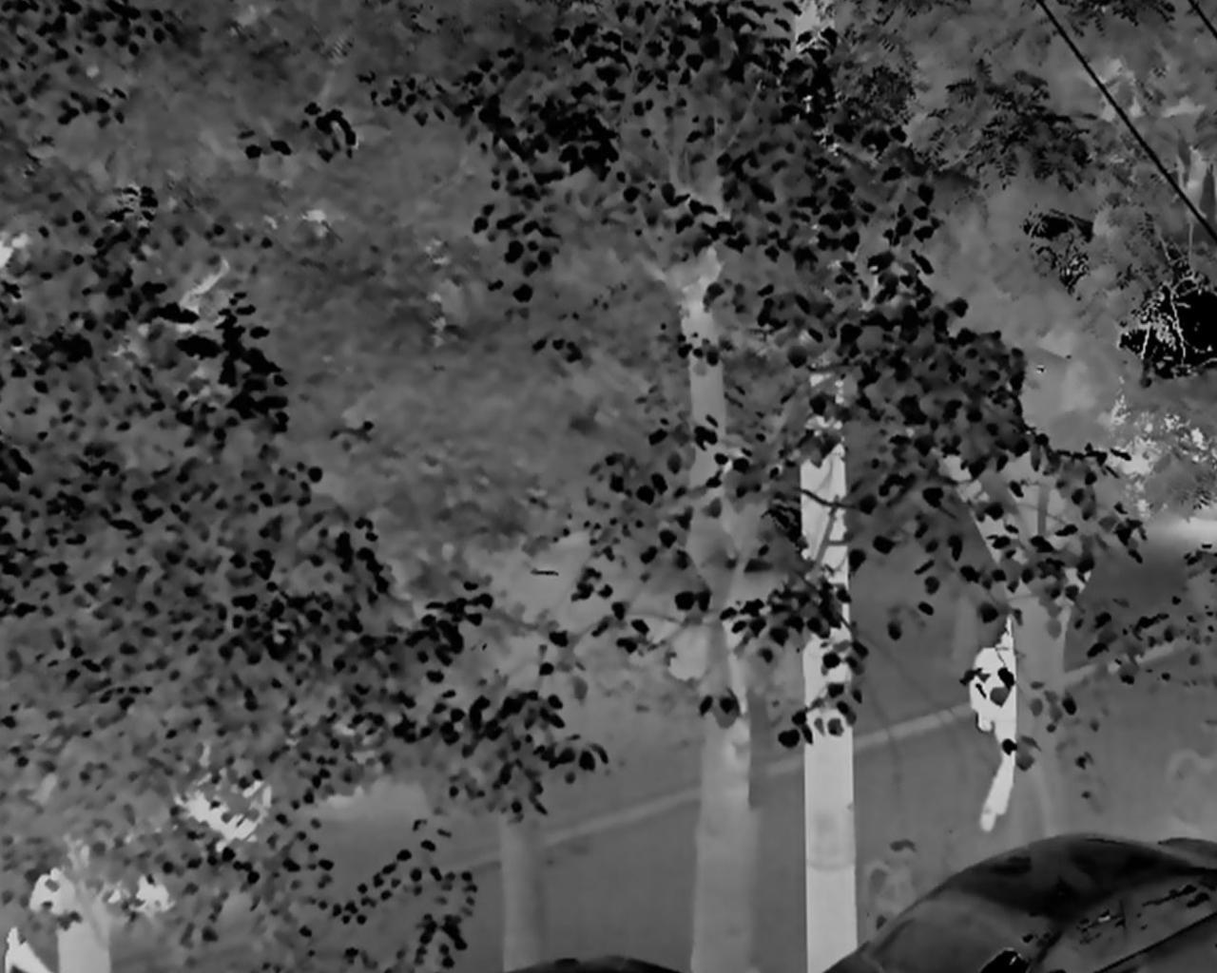person: (966, 610, 1019, 831)
